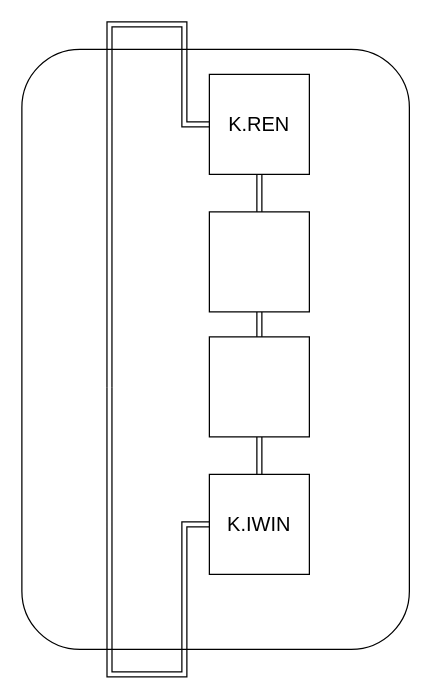
Some shapes in this 431 by 699 pixel diagram are drawn without their labels. Each missing label, with the centre of its shape:
"K.OPS" goes at point 258,386.
"K.PRIN" goes at point 258,261.
